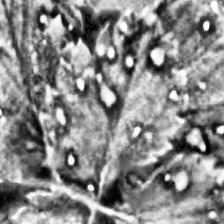Leaf Spot: (40, 6, 190, 201), (114, 0, 224, 201), (0, 0, 74, 185), (109, 152, 224, 224), (0, 187, 130, 224)
